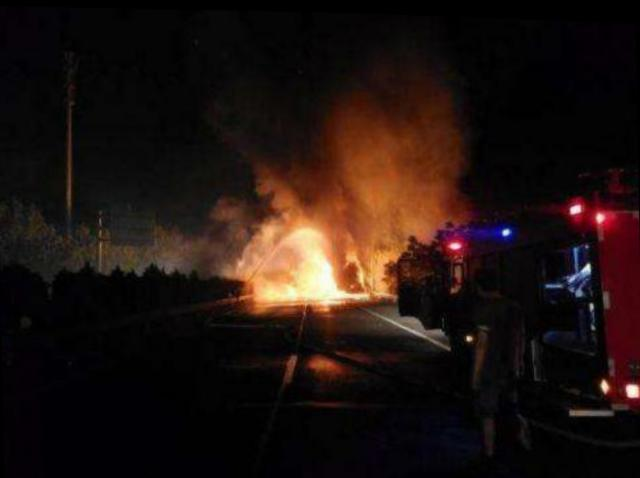fire: (254, 241, 371, 305)
